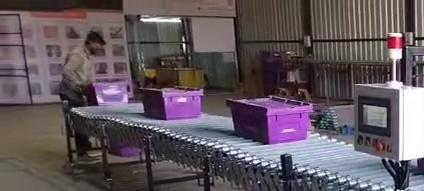box: (227, 96, 313, 143), (140, 87, 203, 119), (94, 79, 130, 104), (418, 159, 423, 172)
